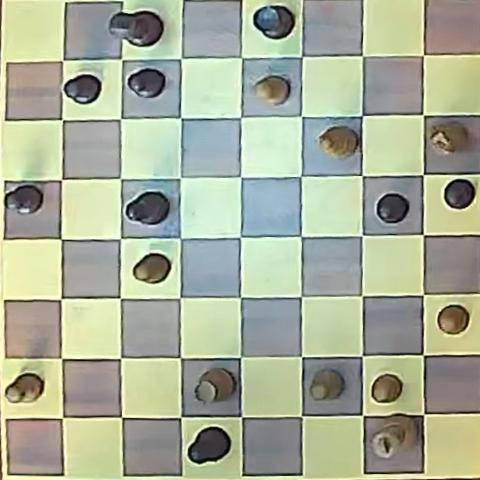black-bishop: (187, 427, 231, 465), (125, 191, 170, 226)
black-king: (110, 10, 162, 47)
black-pawn: (5, 184, 44, 215), (127, 68, 166, 98), (64, 73, 101, 104), (376, 193, 409, 223), (444, 179, 475, 209)
black-rook: (252, 5, 293, 39)
white-bishop: (319, 126, 358, 159)
white-king: (370, 417, 418, 460)
white-knight: (429, 122, 468, 155)
white-pawn: (133, 253, 171, 284), (5, 373, 44, 403), (310, 369, 342, 400), (255, 76, 289, 105), (437, 305, 468, 335), (371, 374, 402, 403)
white-rook: (196, 368, 235, 403)
